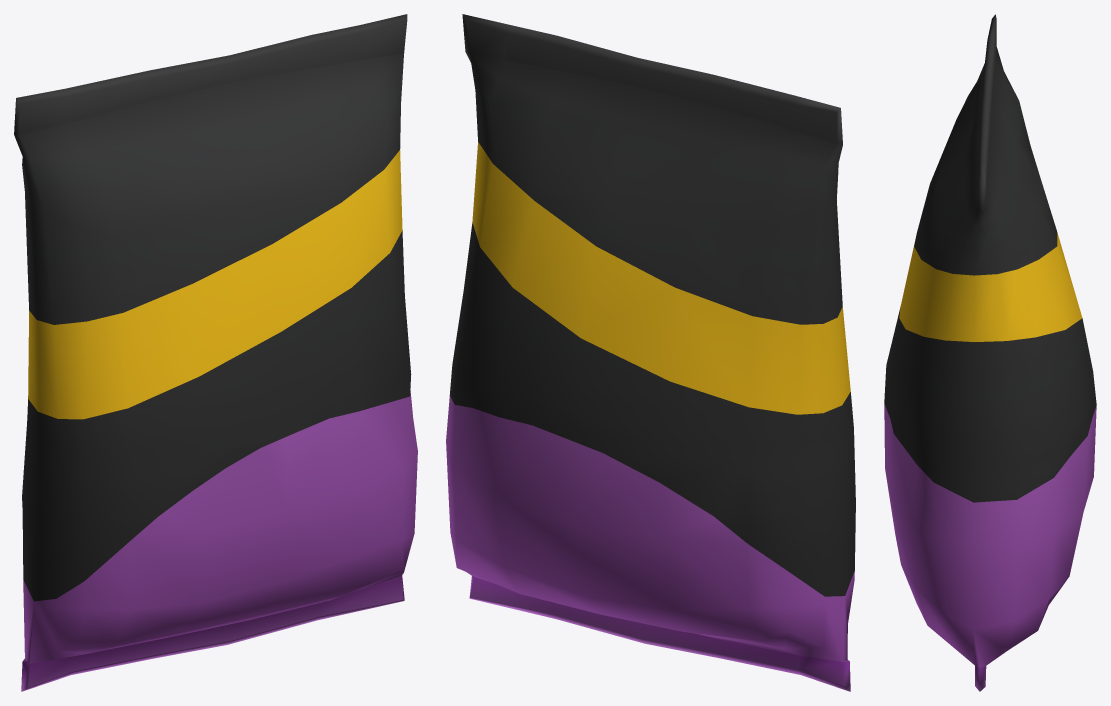
Rendered from chips_004.fbx.
3 views of the same model, side by side, from view 1: azimuth 30°, elevation 25°; view 2: azimuth 150°, elevation 25°; view 3: azimuth 270°, elevation 25° (orthographic). The views are drawn at different scales.
Visible parts, largest first — view 1: chips_004; view 2: chips_004; view 3: chips_004.
Boxes of the visible parts, box(x1,y1,x2,y2) form: chips_004: box(14, 14, 417, 691); chips_004: box(446, 14, 855, 691); chips_004: box(884, 14, 1096, 691).
Bounding box in the file's own units: 15.92 × 8.63 × 23.18.
